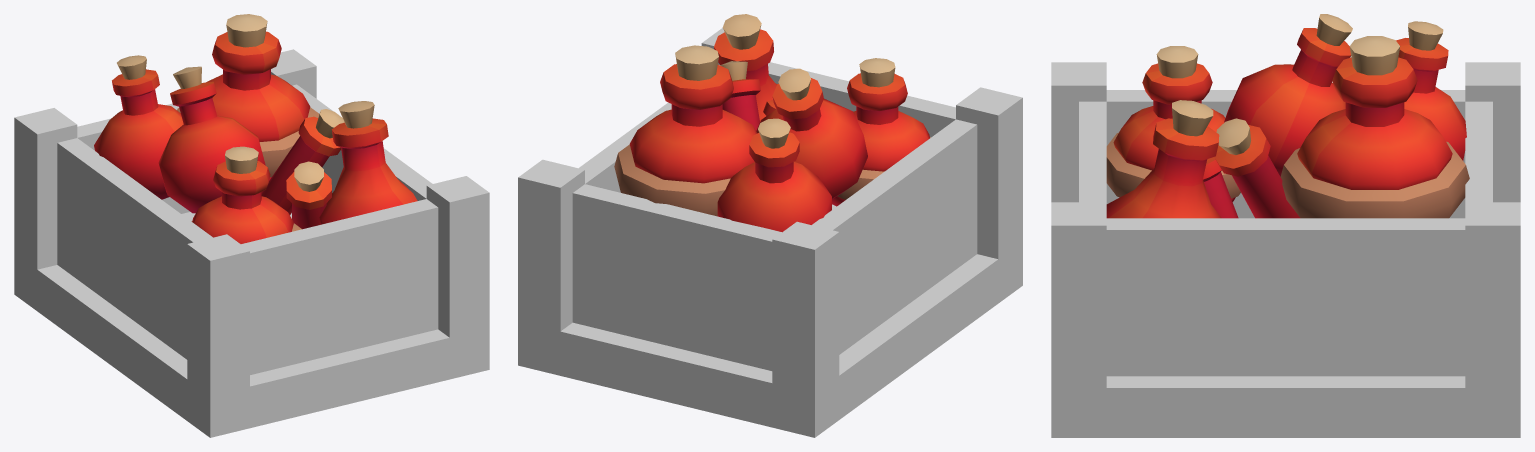
Rendered from PotionBoxRed.fbx.
The picture shows the model from 3 angles, left to right: view 1: azimuth 30°, elevation 25°; view 2: azimuth 150°, elevation 25°; view 3: azimuth 270°, elevation 25°; orthographic projection. The views are drawn at different scales.
Parts seen in each view (by area): view 1: plan, potion_huge_red.001; view 2: plan, potion_huge_red.001; view 3: plan, potion_huge_red.001.
Part boxes in pixels (box(x1,y1,x2,y2)): plan: box(14, 49, 489, 437); potion_huge_red.001: box(94, 14, 417, 243); plan: box(518, 28, 1022, 437); potion_huge_red.001: box(614, 14, 930, 232); plan: box(1051, 62, 1520, 437); potion_huge_red.001: box(1106, 14, 1469, 218).
Bounding box in the file's own units: 0.3234 × 0.308 × 0.3927.
